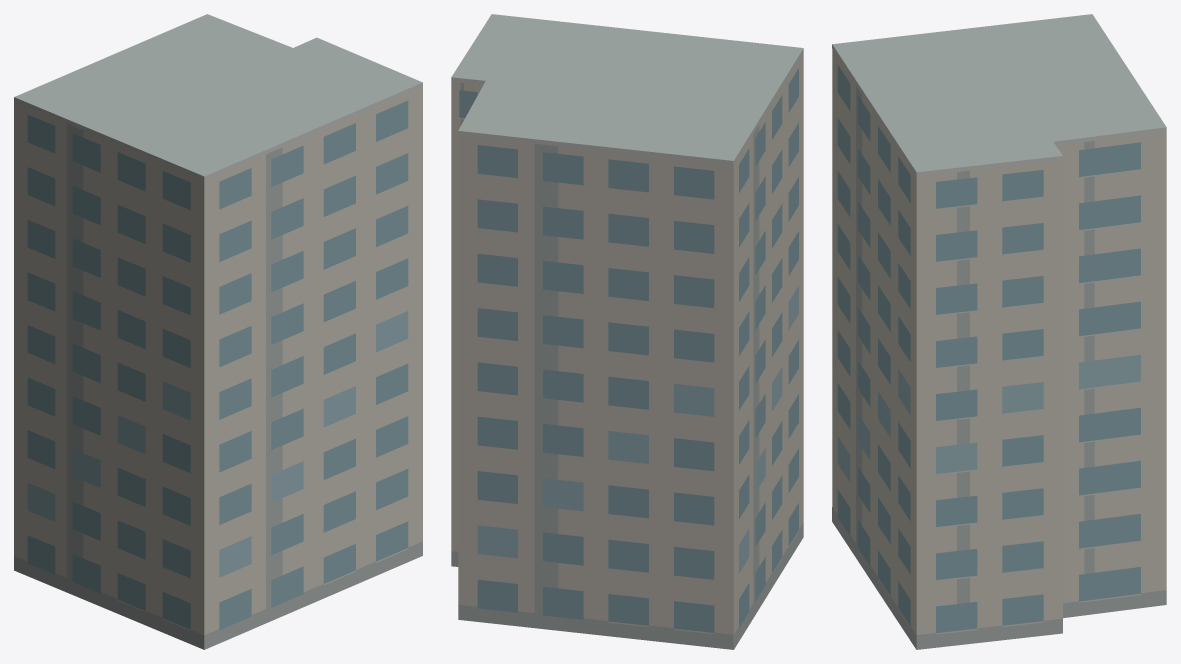
File: survey-upis-32794402.glb
The picture shows the model from 3 angles, left to right: view 1: azimuth 30°, elevation 25°; view 2: azimuth 150°, elevation 25°; view 3: azimuth 270°, elevation 25°; orthographic projection. The views are drawn at different scales.
Parts seen in each view (by area): view 1: survey-upis-32794402.tmp; view 2: survey-upis-32794402.tmp; view 3: survey-upis-32794402.tmp.
Part boxes in pixels (x1,y1,x2,y2): survey-upis-32794402.tmp: (14,14,422,649); survey-upis-32794402.tmp: (451,14,803,649); survey-upis-32794402.tmp: (832,14,1166,649).
Bounding box in the file's own units: 18.85 × 26.5 × 16.83.
